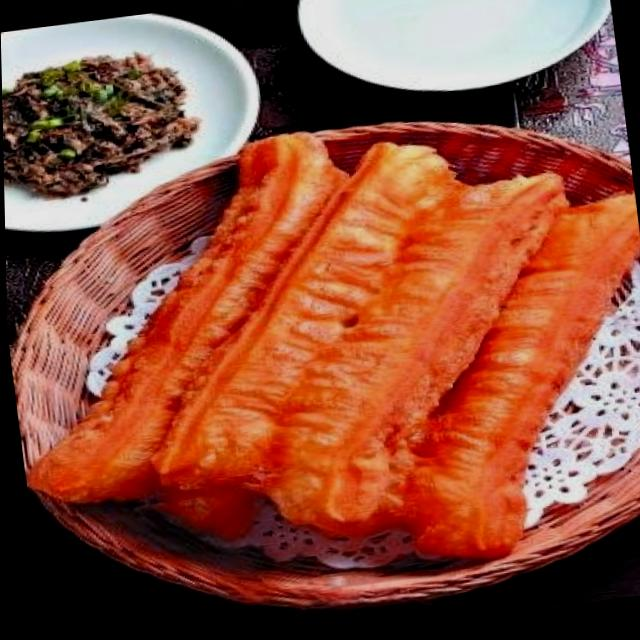炸货点心: (84, 121, 640, 561)
